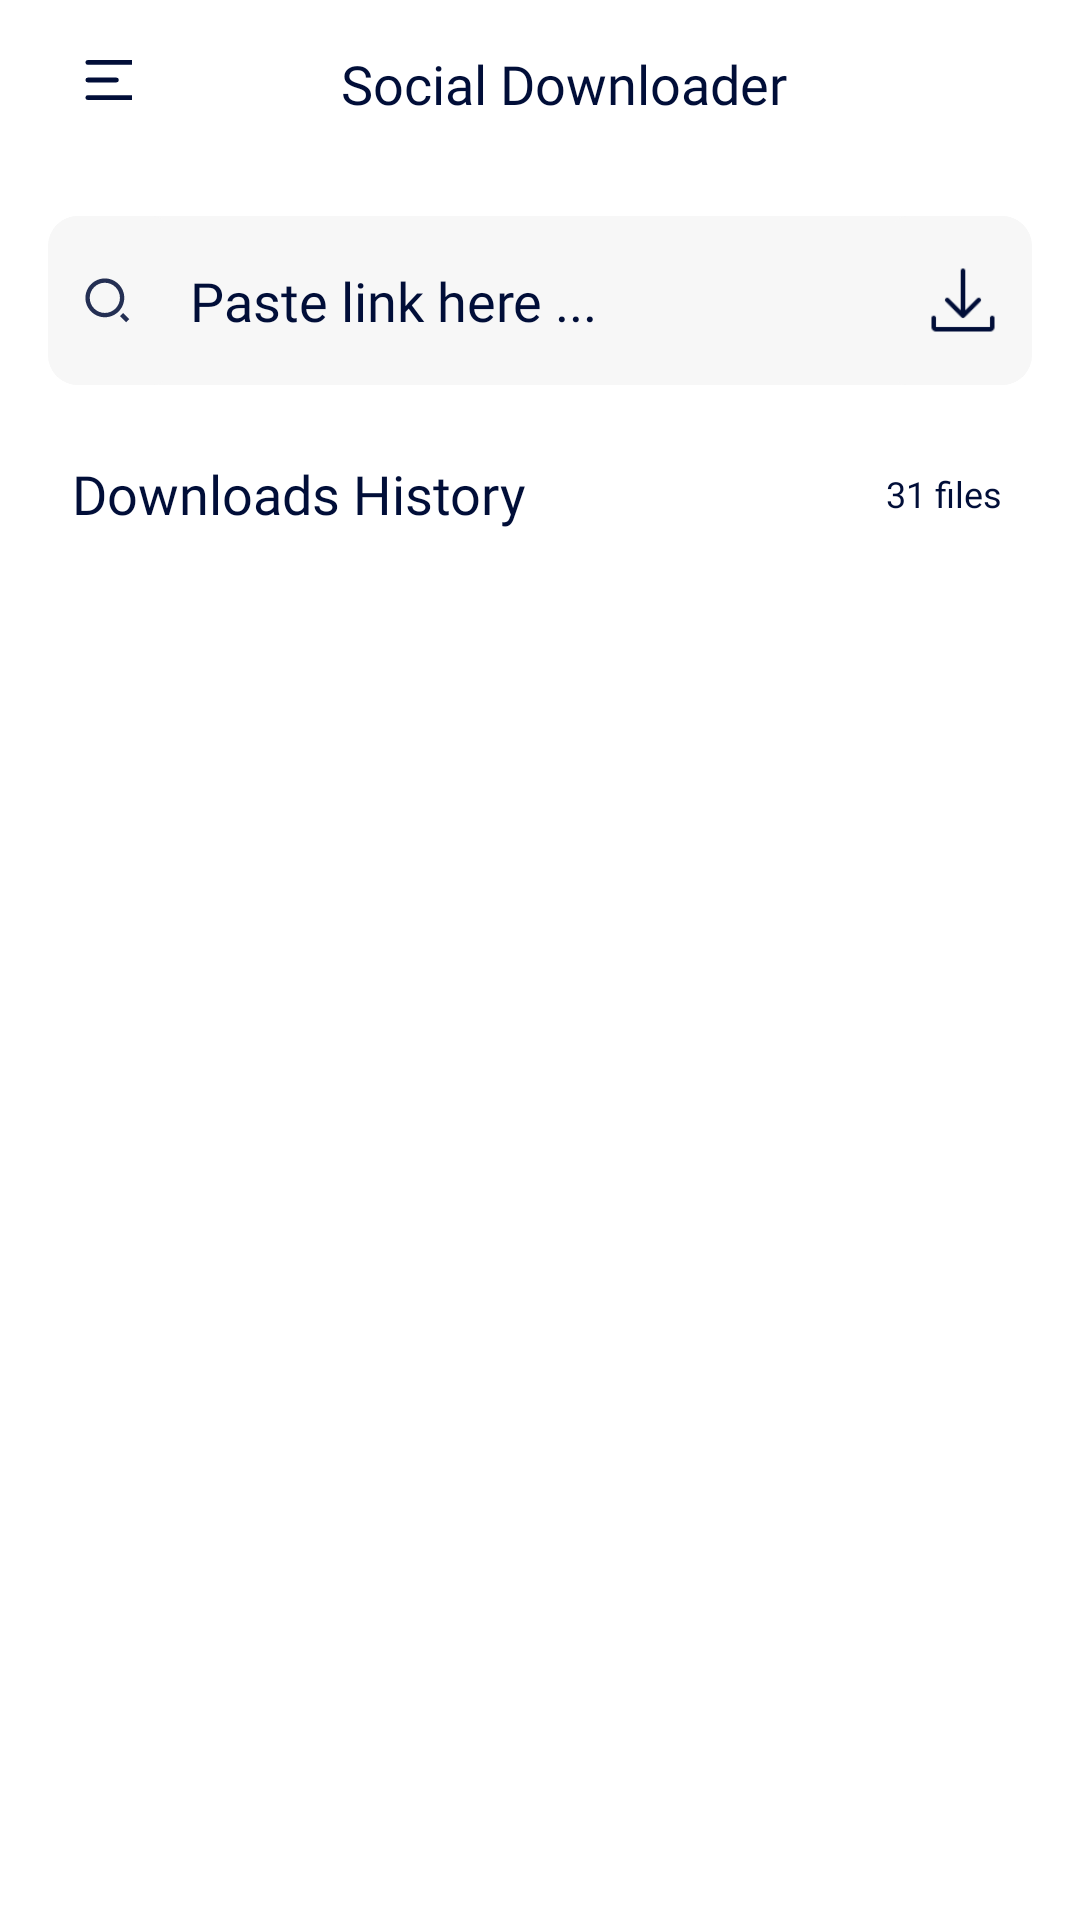

Icons on this 1080×1920 Android screen, each with the point to tap as (x=x, y=y):
search: (x=107, y=300)
